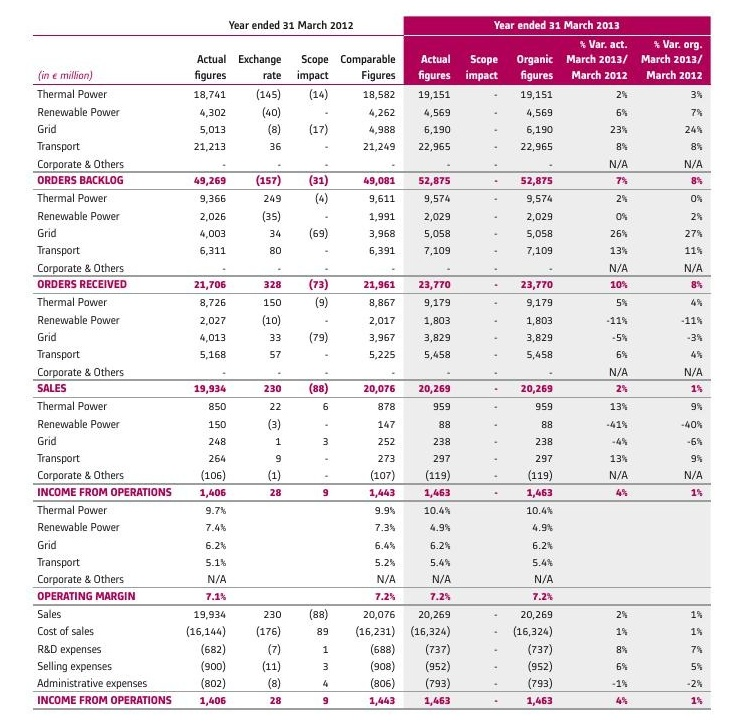table: (0, 0, 736, 725)
